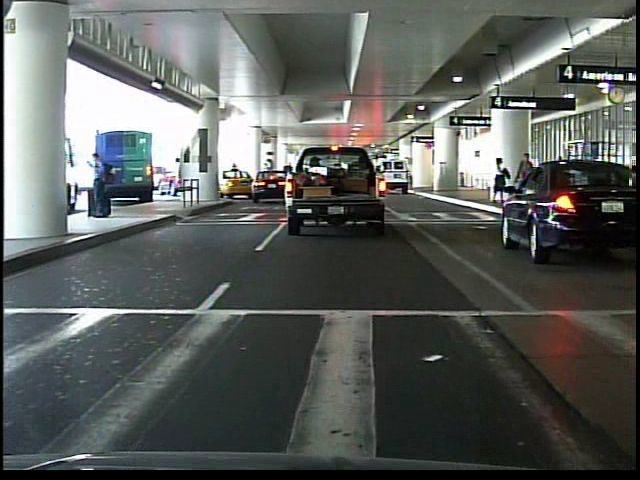person: (87, 150, 118, 228), (487, 155, 514, 210), (514, 151, 537, 208)
